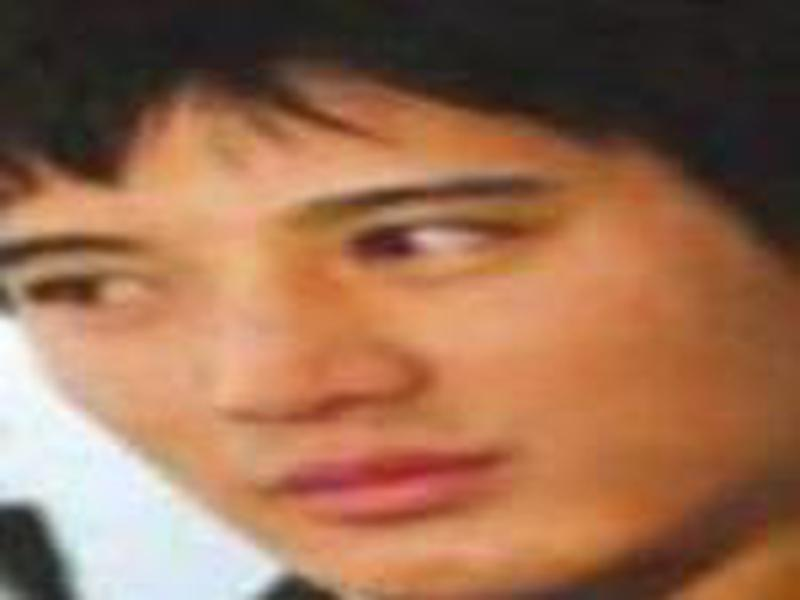without_mask: (4, 84, 790, 593)
